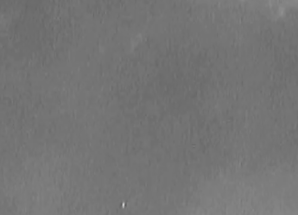Target: (123, 202, 125, 207)
